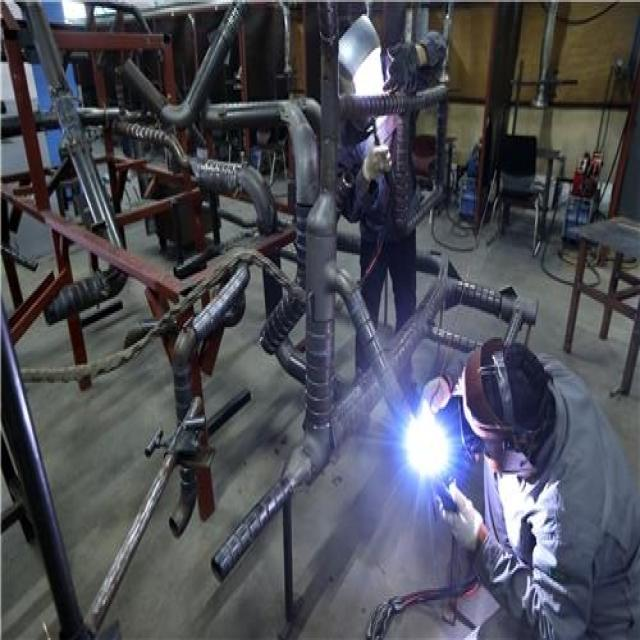welding: (404, 413, 454, 476)
